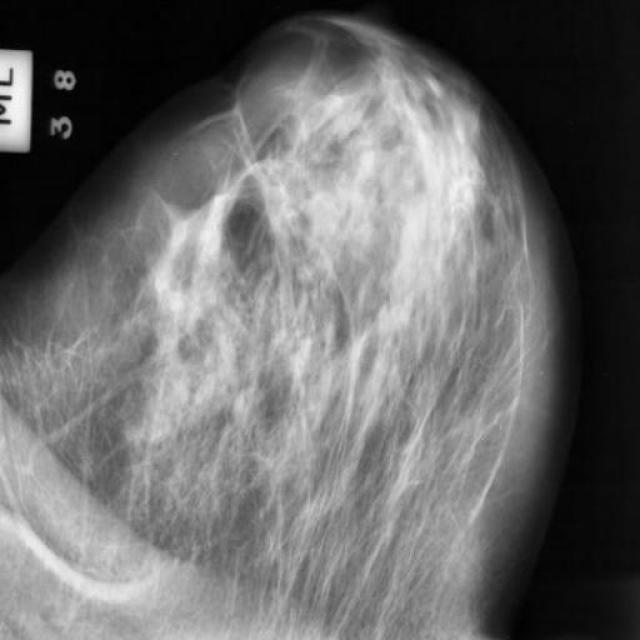cancer: (211, 360, 267, 450)
